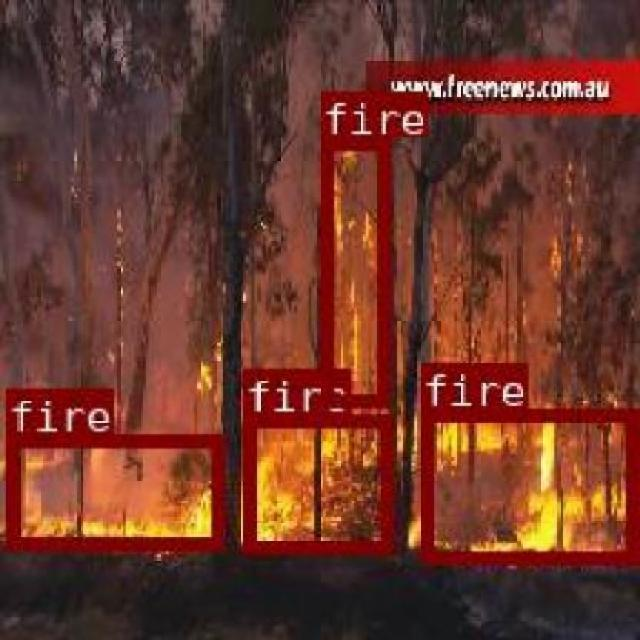Fire: (418, 408, 634, 560), (3, 432, 222, 548), (241, 413, 390, 550), (318, 136, 386, 404)
